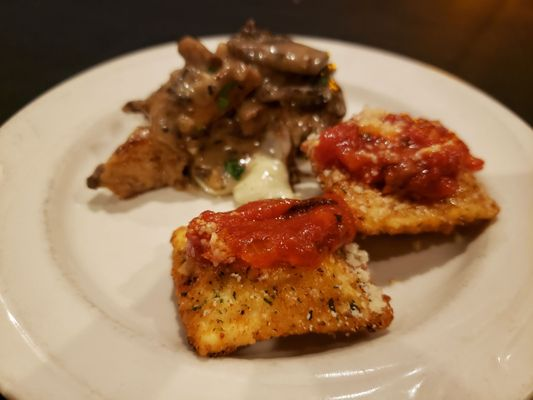curry: (0, 3, 512, 398)
